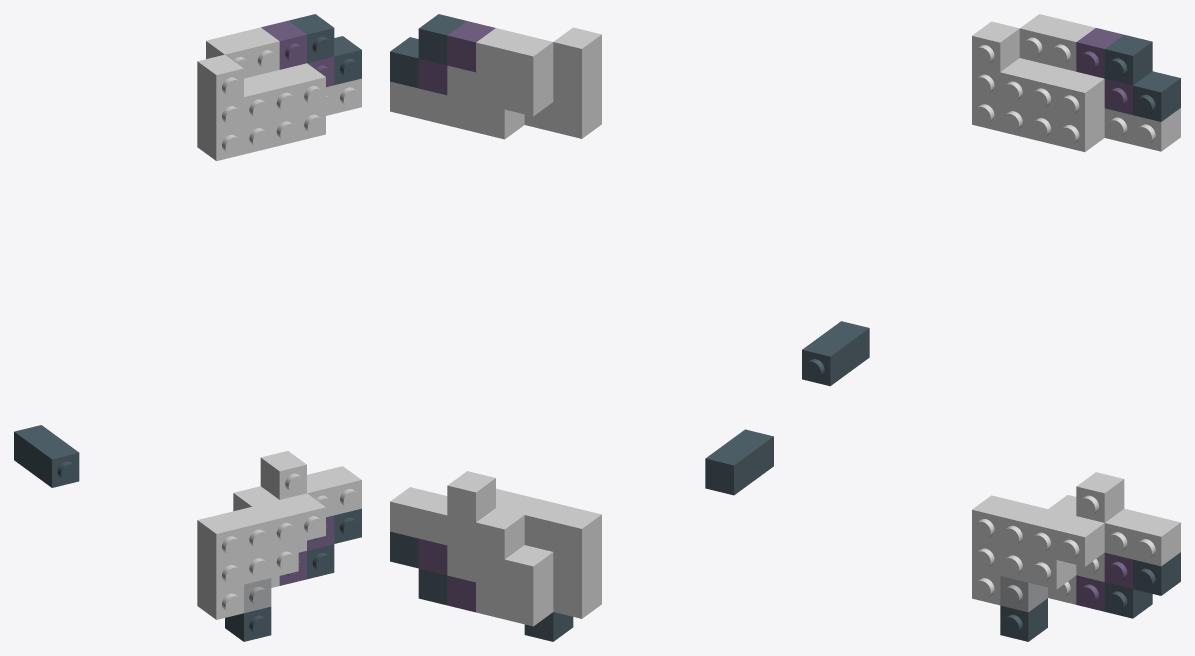
The model's file is full.glb.
The picture shows the model from 3 angles, left to right: view 1: azimuth 30°, elevation 25°; view 2: azimuth 150°, elevation 25°; view 3: azimuth 330°, elevation 25°; orthographic projection. The views are drawn at different scales.
Parts seen in each view (by area): view 1: world; view 2: world; view 3: world.
Part boxes in pixels (x1=…): world: x1=14, y1=14, x2=361, y2=641; world: x1=390, y1=14, x2=773, y2=641; world: x1=802, y1=14, x2=1180, y2=641.
Size of the model in its own units: 96 by 160 by 21.
